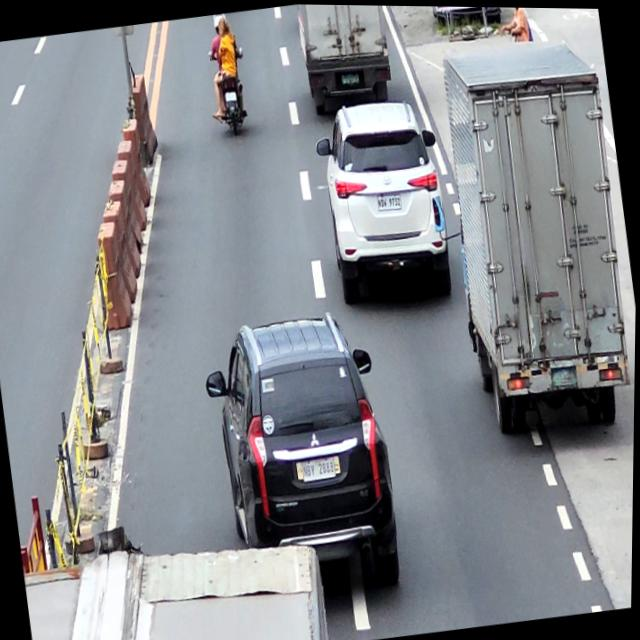Car: (196, 305, 411, 609), (311, 94, 459, 311)
License-Plate: (302, 455, 339, 481), (553, 365, 581, 386), (377, 190, 404, 211), (341, 70, 361, 84), (224, 89, 239, 102)
Motorcycle: (207, 42, 253, 137)
Truck: (431, 33, 640, 442), (24, 523, 336, 640), (294, 3, 395, 114)
